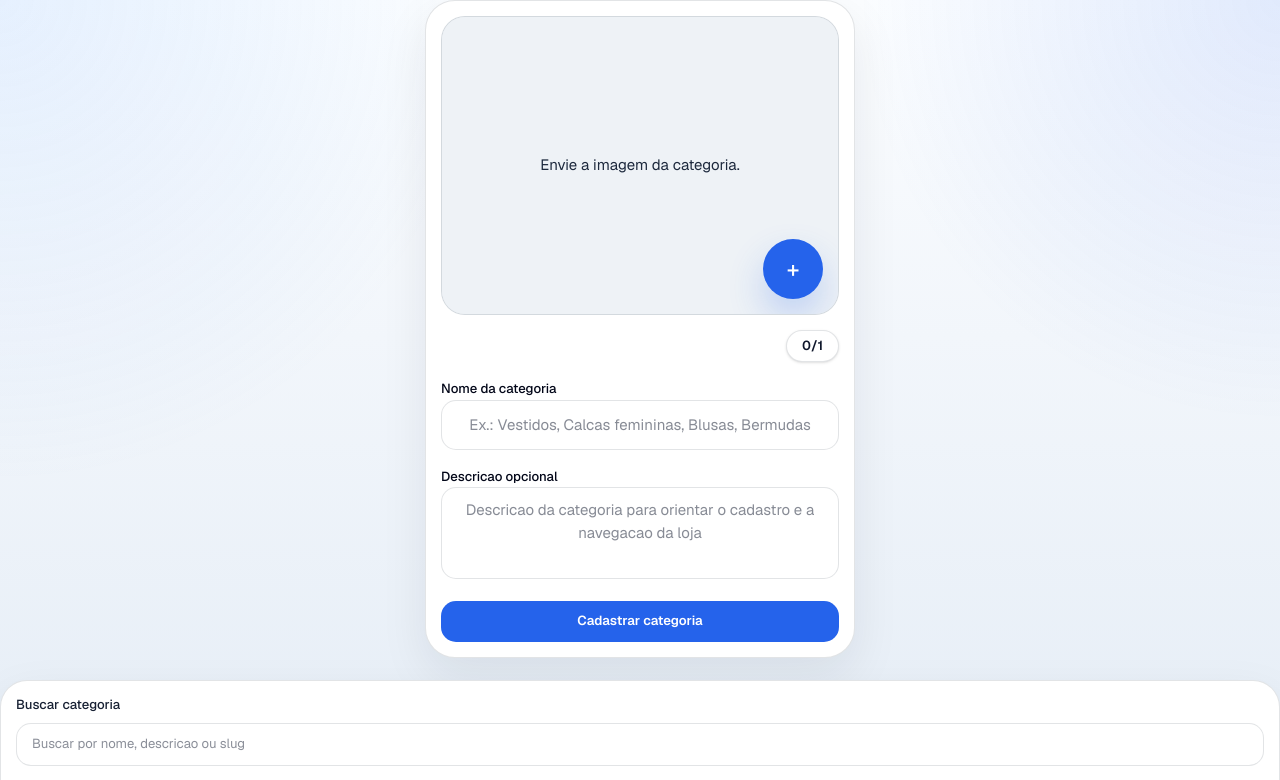
Test: SellerCategoriesBoard › deve exigir imagem antes de cadastrar categoria
Type "Vestidos" into the field with placeholder "Ex.: Vestidos, Calcas femininas, Blusas, Bermudas".
click(640, 424); type("Vestidos")  # box [441, 400, 839, 450]
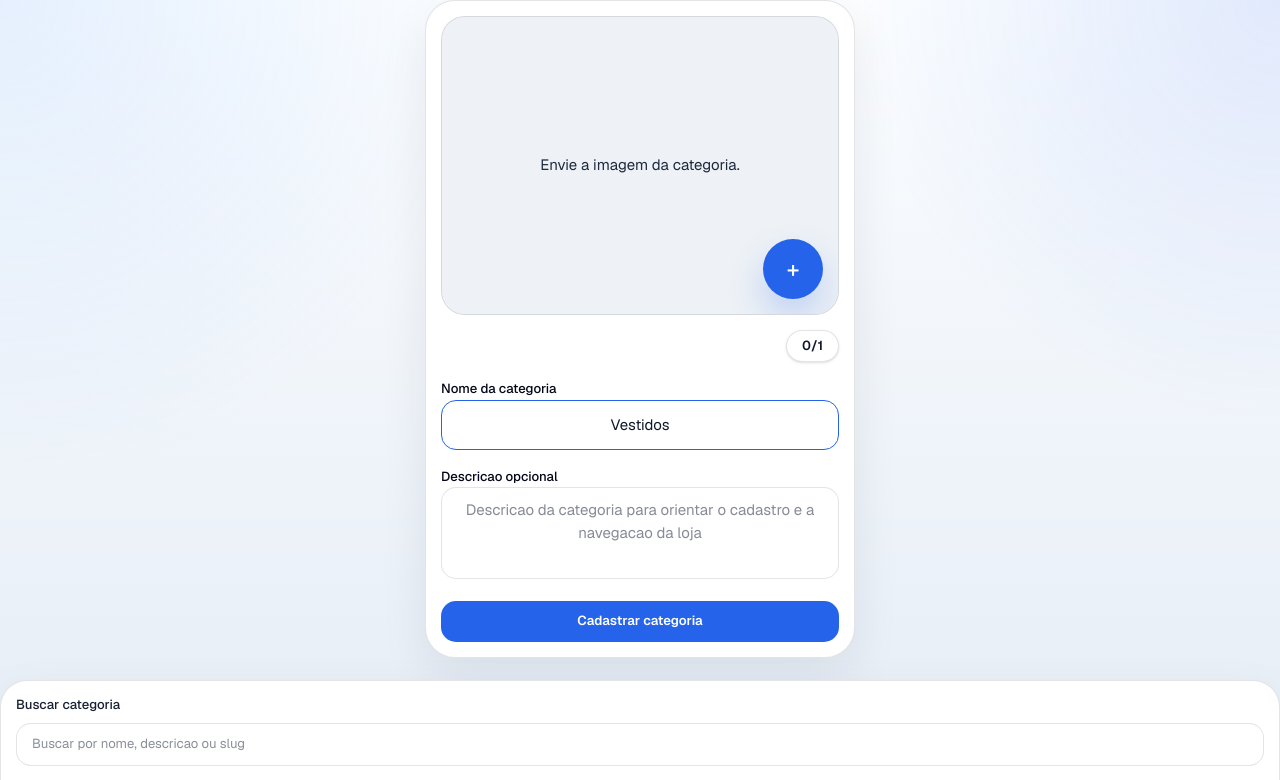
Click the button "Cadastrar categoria".
click(640, 621)  # box [441, 600, 839, 642]
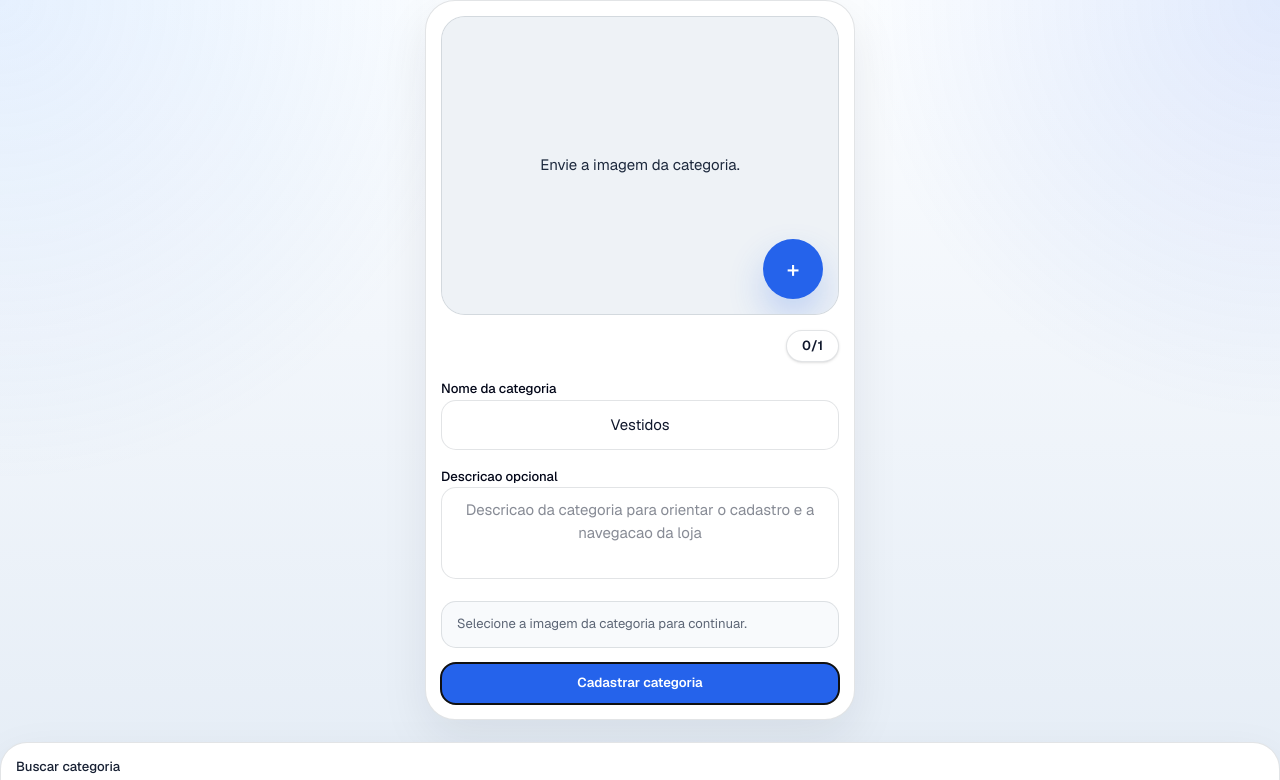
Check: the text "Selecione a imagem da categoria para continuar." is shown, box [441, 600, 839, 648]
